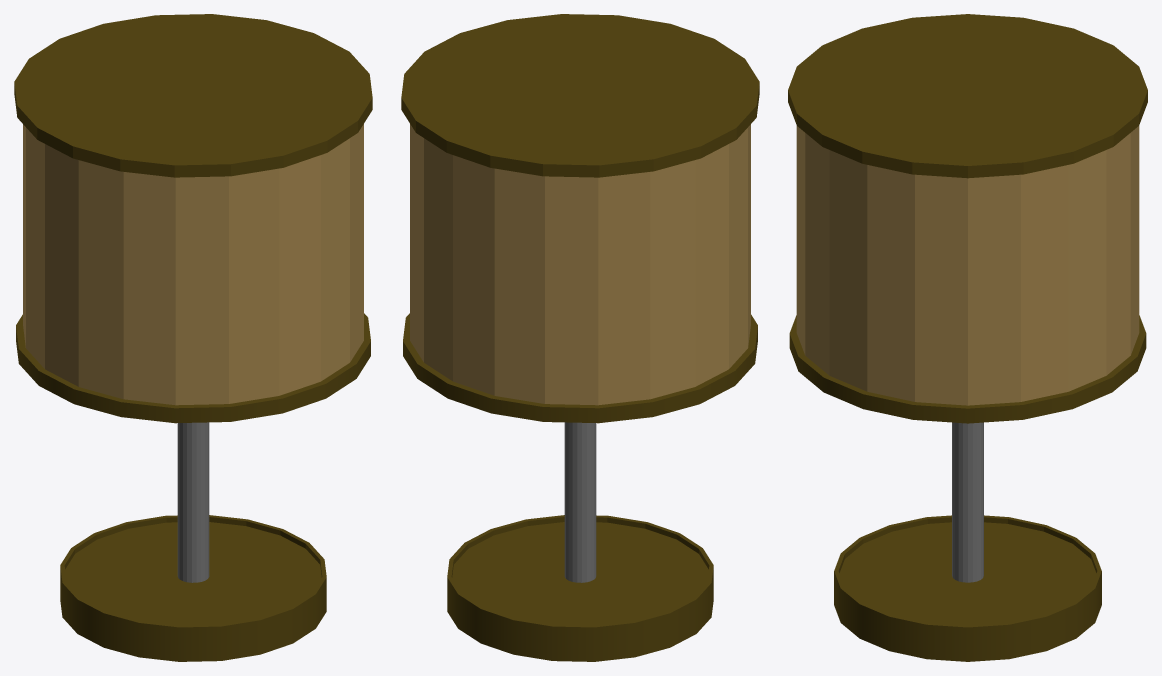
Rendered from Abajur Soft.fbx.
3 views of the same model, side by side, from view 1: azimuth 30°, elevation 25°; view 2: azimuth 150°, elevation 25°; view 3: azimuth 270°, elevation 25° (orthographic).
Parts seen in each view (by area): view 1: pCylinder6; view 2: pCylinder6; view 3: pCylinder6.
Boxes of the visible parts, x1=… form: pCylinder6: x1=14, y1=14, x2=372, y2=661; pCylinder6: x1=401, y1=14, x2=759, y2=661; pCylinder6: x1=788, y1=14, x2=1147, y2=661.
Size of the model in its own units: 3.44 by 5.43 by 3.44.
